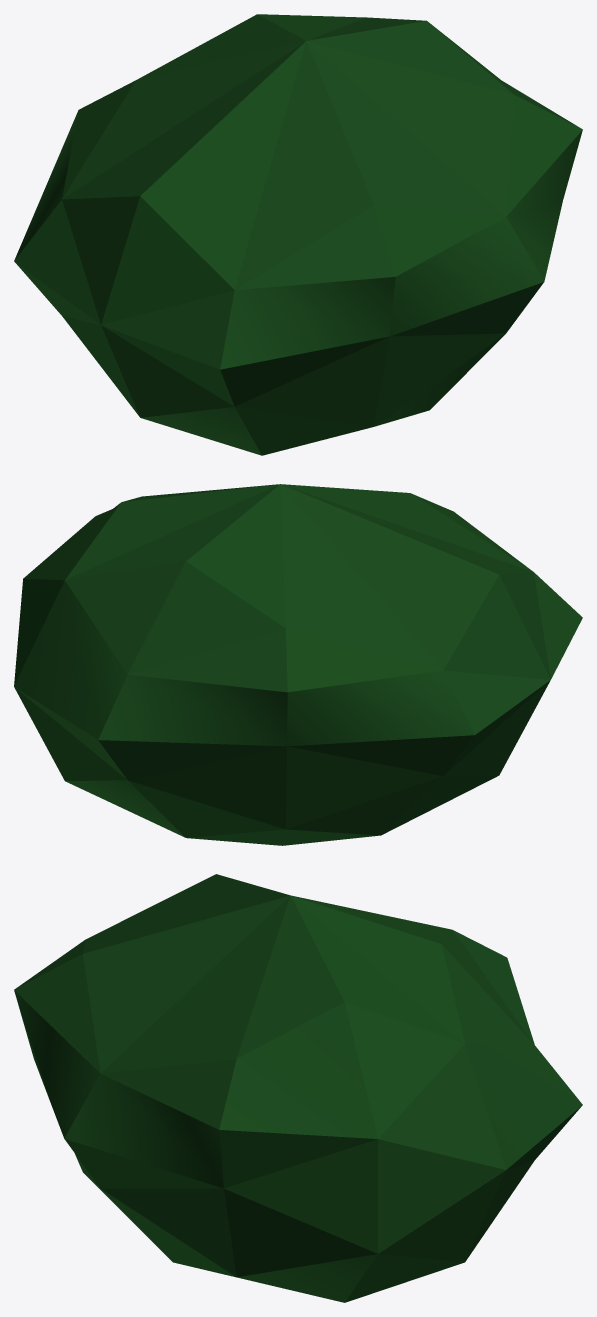
File: GreenBush_v2.fbx
The picture shows the model from 3 angles, top to bottom: view 1: azimuth 30°, elevation 25°; view 2: azimuth 150°, elevation 25°; view 3: azimuth 270°, elevation 25°; orthographic projection. The views are drawn at different scales.
Parts seen in each view (by area): view 1: pSphere10; view 2: pSphere10; view 3: pSphere10.
Boxes of the visible parts, <box> form: pSphere10: <box>14,14,582,455</box>; pSphere10: <box>14,484,582,845</box>; pSphere10: <box>14,874,582,1302</box>.
Bounding box in the file's own units: 0.0665 × 0.0485 × 0.0673.
